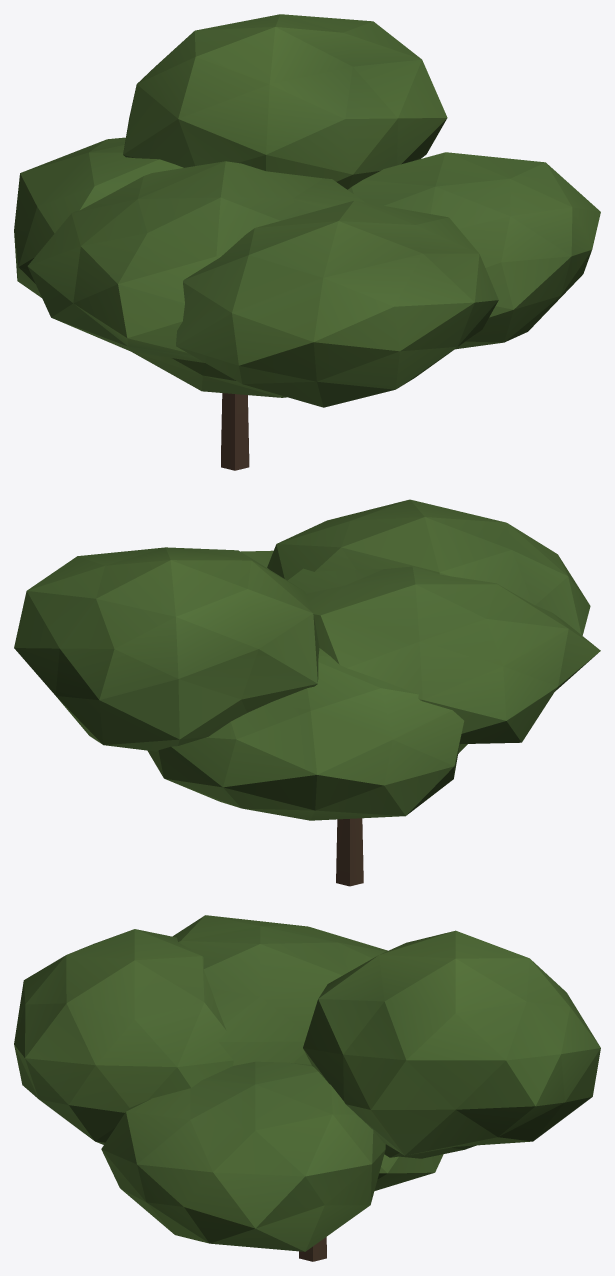
The model's file is veg_sly_0.glb.
The picture shows the model from 3 angles, top to bottom: view 1: azimuth 30°, elevation 25°; view 2: azimuth 150°, elevation 25°; view 3: azimuth 270°, elevation 25°; orthographic projection. The views are drawn at different scales.
Parts seen in each view (by area): view 1: geometry_0; view 2: geometry_0; view 3: geometry_0.
Part boxes in pixels (box(x1,y1,x2,y2)): geometry_0: box(14, 14, 600, 470); geometry_0: box(14, 499, 600, 886); geometry_0: box(14, 915, 600, 1261).
Size of the model in its own units: 1.54 by 1 by 1.52.
